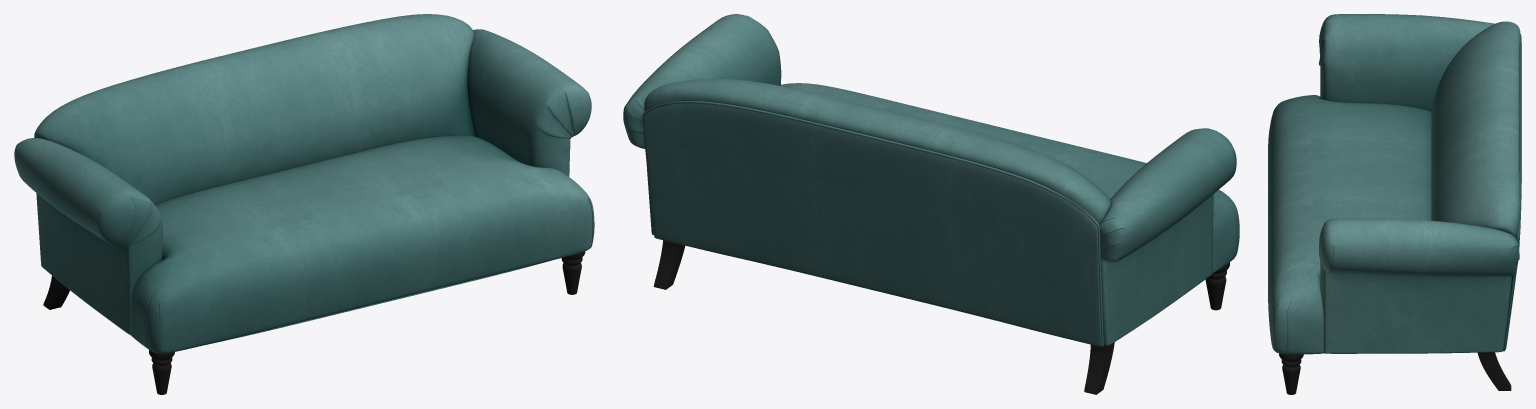
Rendered from claudia_3_seater_sofa_peacock_blue_velvet.glb.
3 renders of one model, left to right at view 1: azimuth 30°, elevation 25°; view 2: azimuth 150°, elevation 25°; view 3: azimuth 270°, elevation 25°, orthographic. The views are drawn at different scales.
Parts seen in each view (by area): view 1: VELVET, LEGS; view 2: VELVET, LEGS; view 3: VELVET, LEGS.
Part boxes in pixels (<box>): VELVET: <box>14,14,594,353</box>; LEGS: <box>43,251,585,394</box>; VELVET: <box>623,14,1239,347</box>; LEGS: <box>653,240,1229,394</box>; VELVET: <box>1268,14,1521,354</box>; LEGS: <box>1279,352,1511,394</box>.
Size of the model in its own units: 3.79 by 1.56 by 1.78.
Materials: 2 (2 with a texture image).
